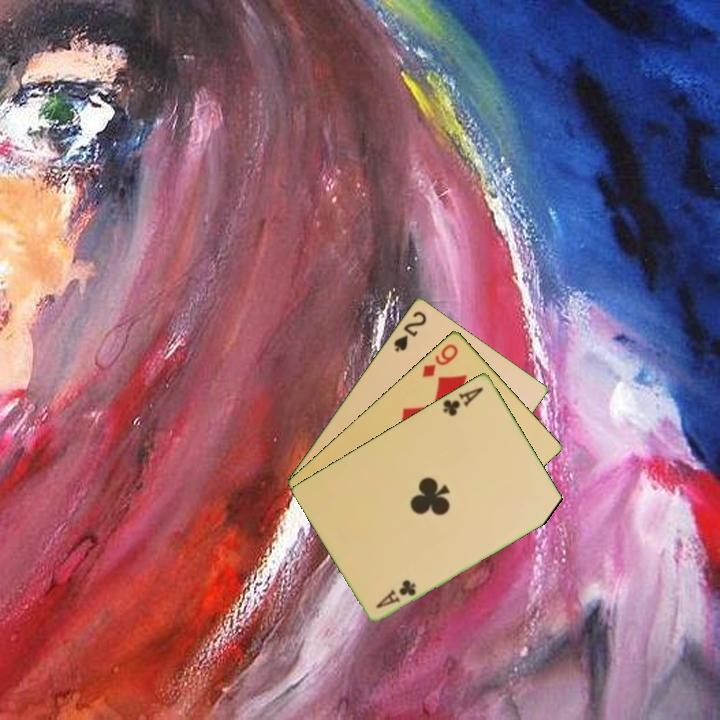2s: (390, 307, 429, 354)
9d: (418, 340, 461, 380)
Ac: (439, 383, 486, 419), (372, 575, 419, 611)
